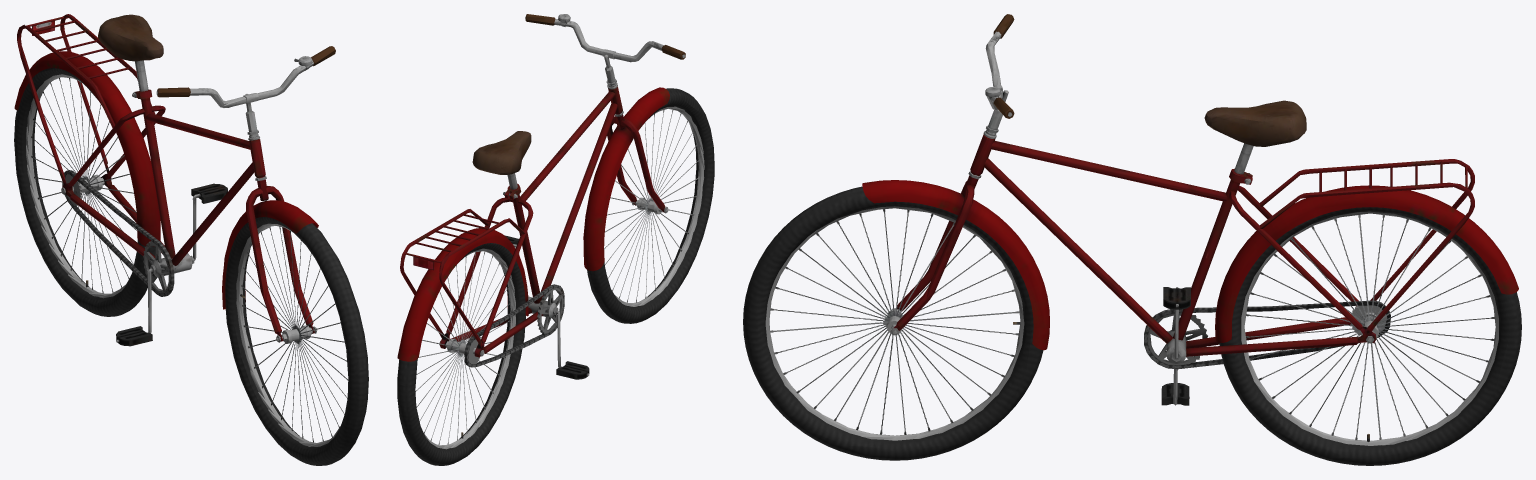
File: bicycle.glb
The picture shows the model from 3 angles, left to right: view 1: azimuth 30°, elevation 25°; view 2: azimuth 150°, elevation 25°; view 3: azimuth 270°, elevation 25°; orthographic projection. The views are drawn at different scales.
Visible parts, largest first — view 1: bicycle_bicycle_0; view 2: bicycle_bicycle_0; view 3: bicycle_bicycle_0.
Boxes of the visible parts, left/top/right/bottom form: bicycle_bicycle_0: left=14, top=14, right=368, bottom=465; bicycle_bicycle_0: left=397, top=14, right=714, bottom=465; bicycle_bicycle_0: left=743, top=14, right=1521, bottom=465.
Size of the model in its own units: 0.569 by 1.1 by 1.91.
Materials: 1 (1 with a texture image).
